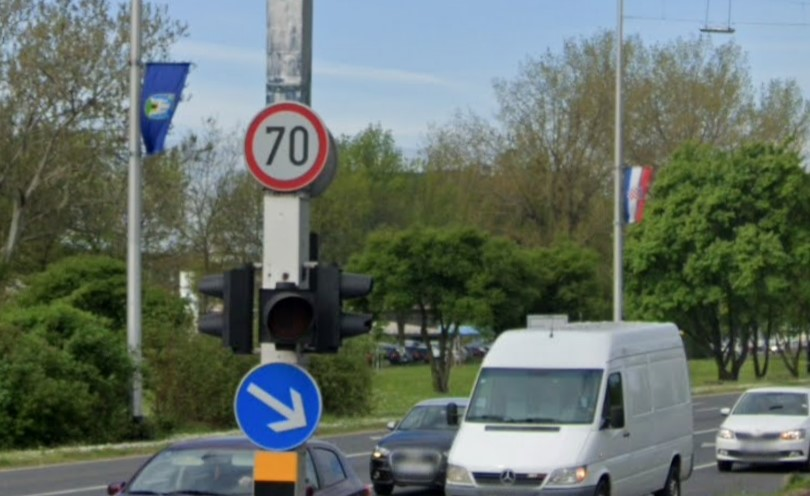Ograničenje brzine 70: (244, 102, 330, 193)
